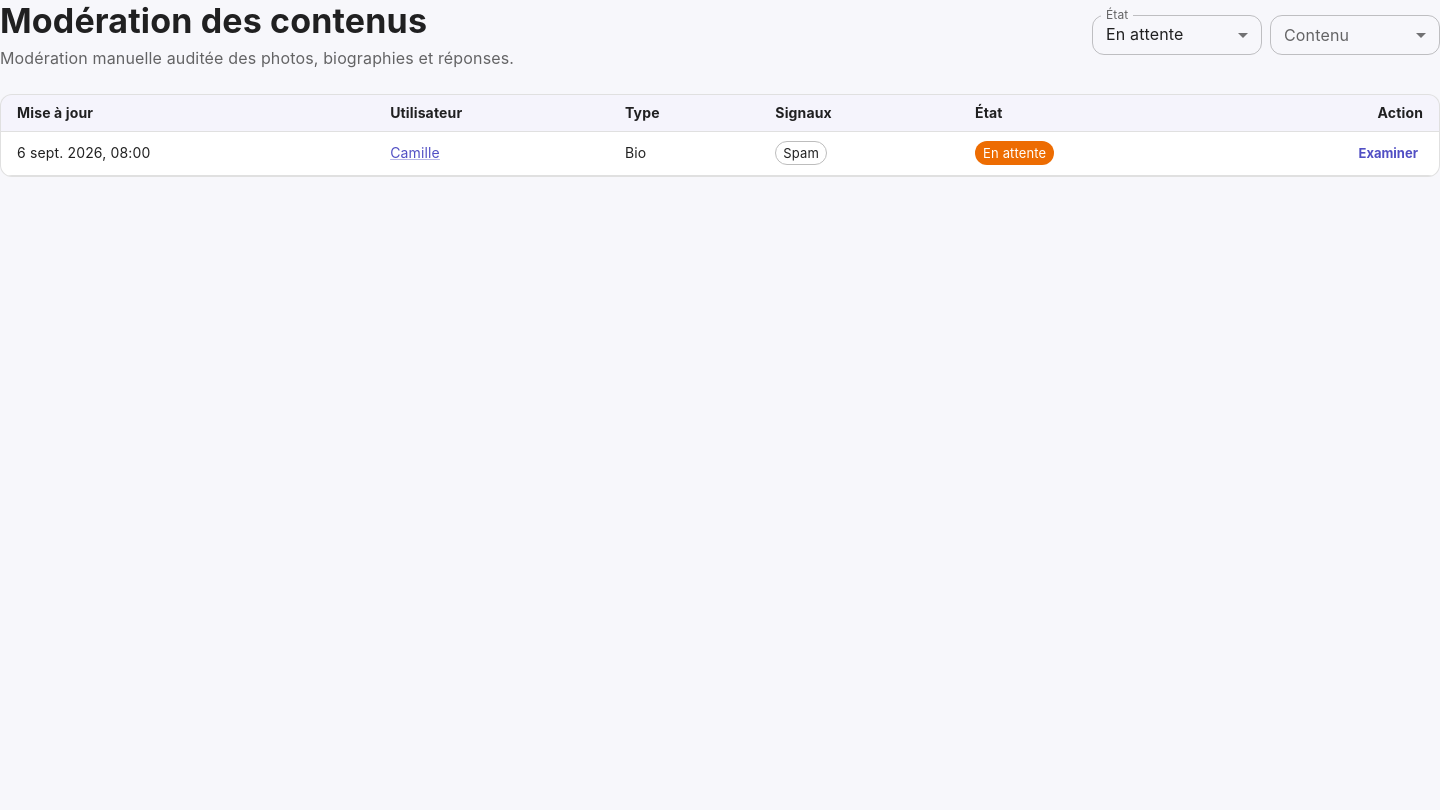
Test case: critical dashboard actions › surfaces an optimistic-concurrency conflict during moderation
The image size is (1440, 810).
Step 1. Click the button "Examiner" → (1388, 153), box 1354,138 -> 1423,169
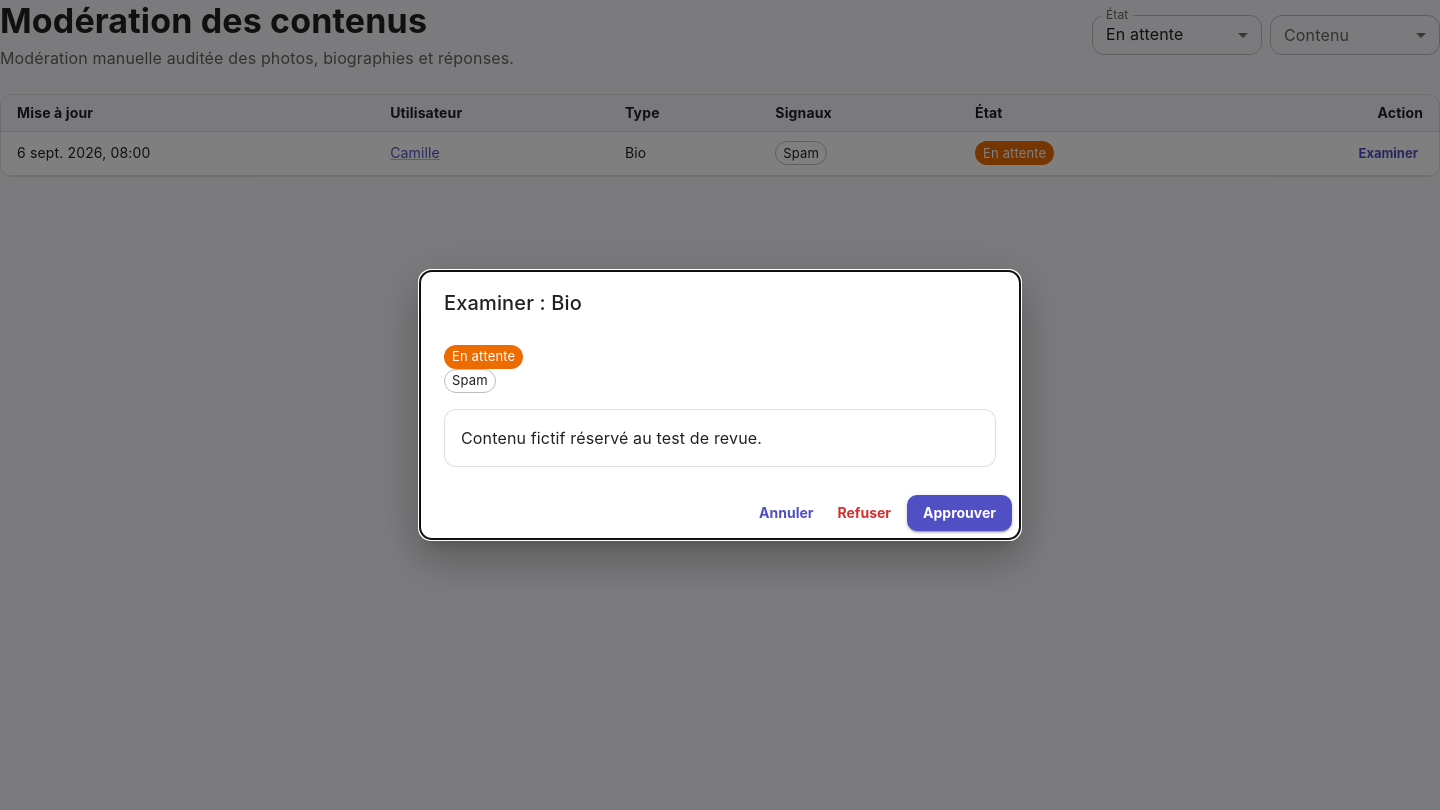
Now the text "Contenu fictif réservé au test de revue." is shown, box 444,409 -> 996,467
Step 2. Click the button "Approuver" → (960, 513), box 907,495 -> 1012,531
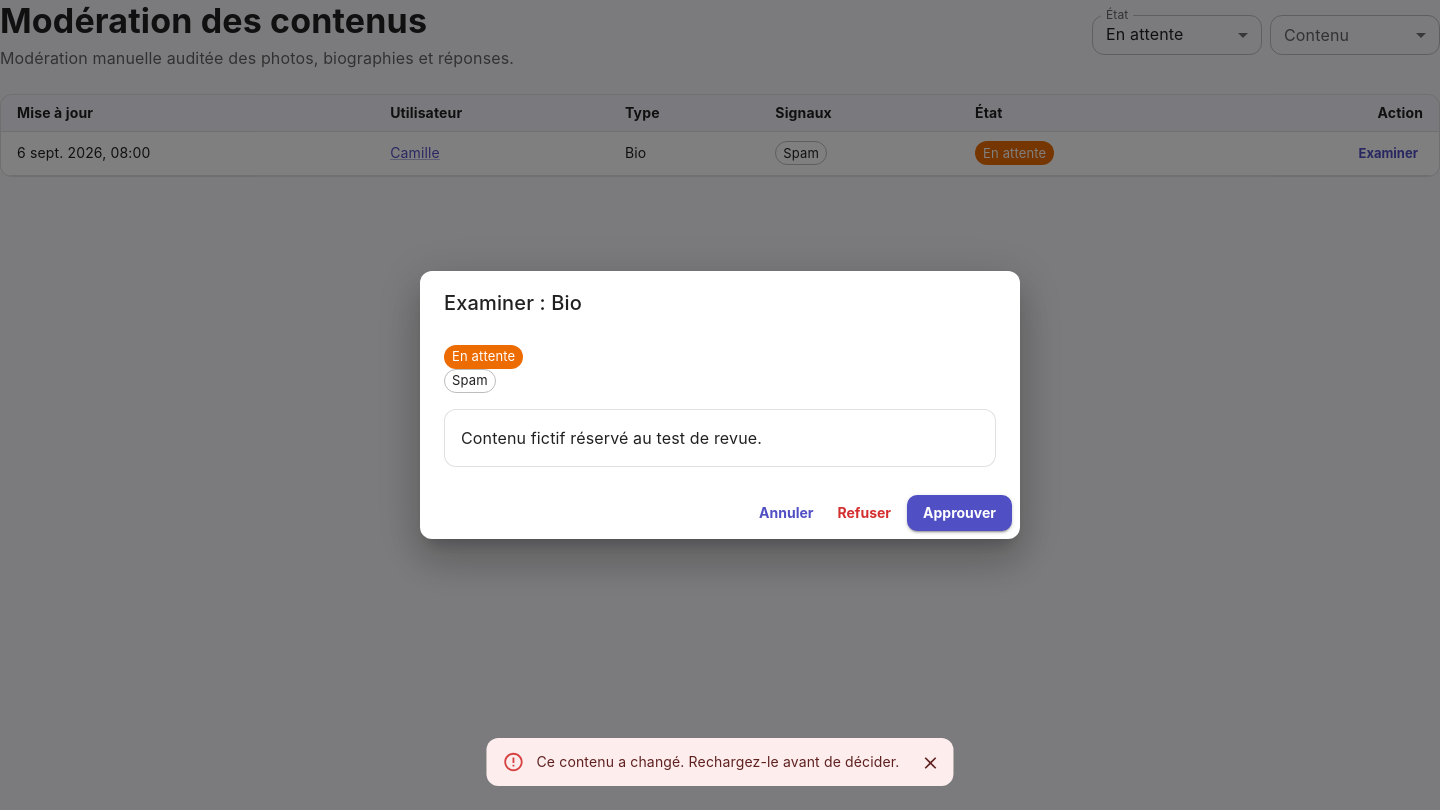
Now the text "Ce contenu a changé. Rechargez-le avant de décider." is shown, box 536,753 -> 900,770
